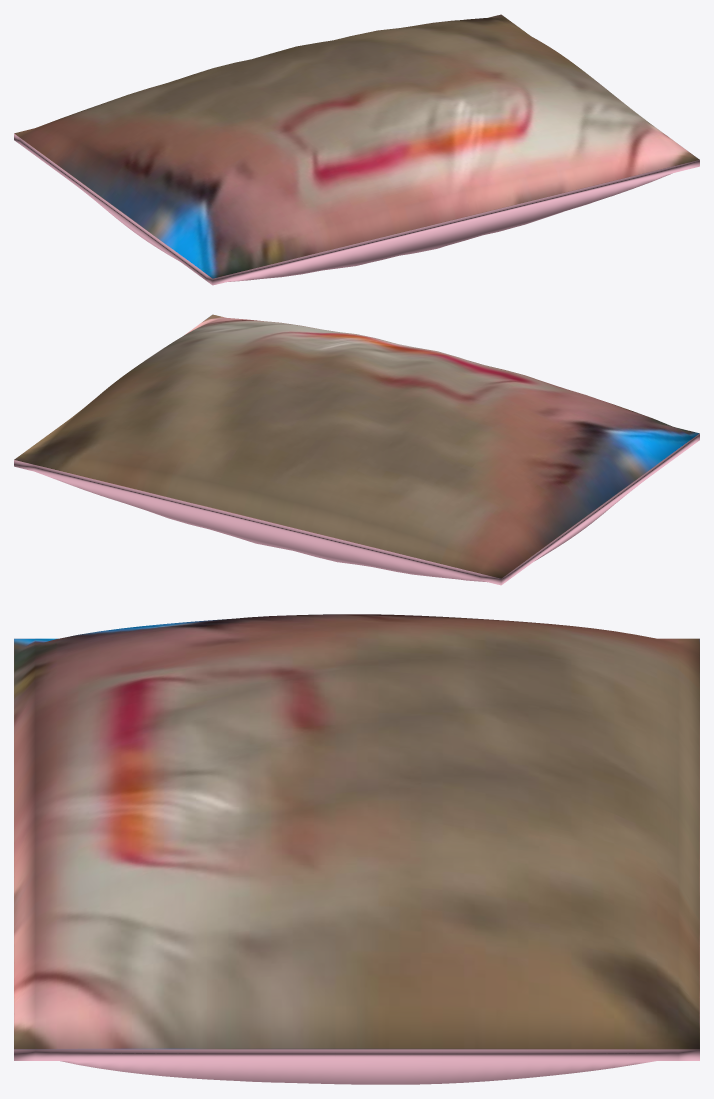
Rendered from pantry_contents__pink_snack_pouch.glb.
3 views of the same model, one above another, from view 1: azimuth 30°, elevation 25°; view 2: azimuth 150°, elevation 25°; view 3: azimuth 270°, elevation 25° (orthographic). The views are drawn at different scales.
Parts seen in each view (by area): view 1: pink_snack_pouch__body; view 2: pink_snack_pouch__body; view 3: pink_snack_pouch__body.
Boxes of the visible parts, bbox=[...] form: pink_snack_pouch__body: bbox=[14, 14, 699, 285]; pink_snack_pouch__body: bbox=[14, 314, 699, 585]; pink_snack_pouch__body: bbox=[14, 614, 699, 1084].
Size of the model in its own units: 0.17 by 0.045 by 0.12.
Materials: 2 (1 with a texture image).
